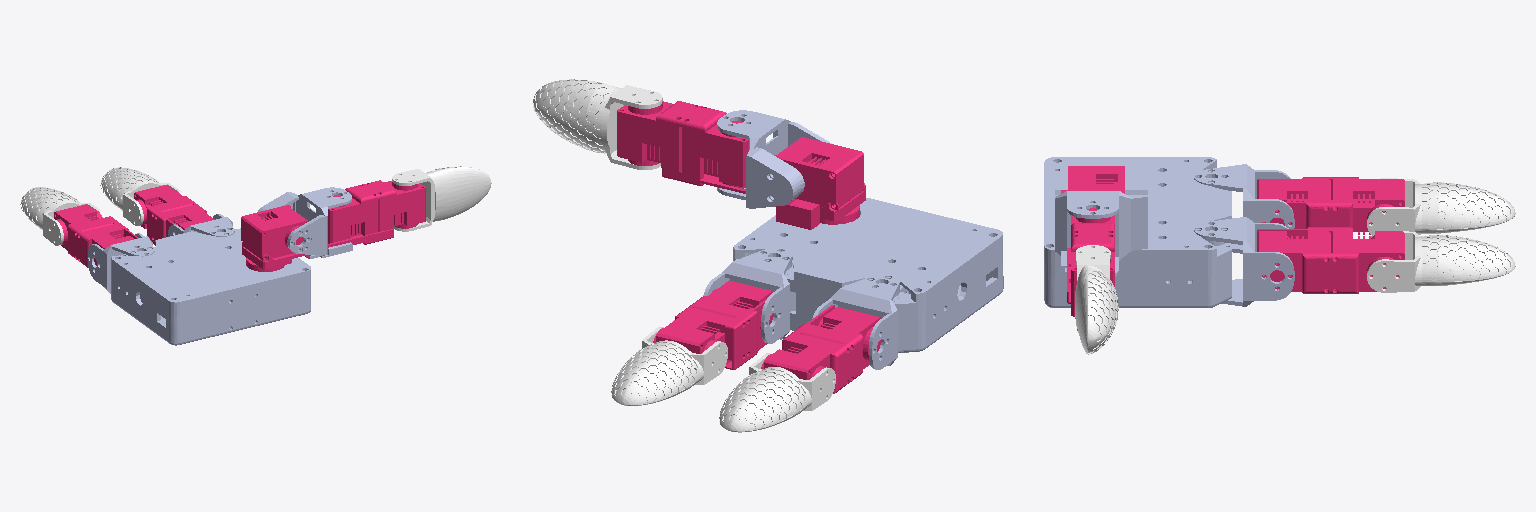
robot.urdf — GX10v2:
<?xml version="1.0" encoding="utf-8"?>
<!-- This URDF was automatically created by SolidWorks to URDF Exporter! Originally created by [author] ([email redacted]) 
     Commit Version: 1.6.0-4-g7f85cfe  Build Version: 1.6.7995.38578
     For more information, please see http://wiki.ros.org/sw_urdf_exporter -->
<robot
  name="GX10v2">
  <link
    name="base_link">
    <inertial>
      <origin
        xyz="0.0039750788871368 0.0455482018465749 -0.00143347464056486"
        rpy="0 0 0" />
      <mass
        value="0.135870626687155" />
      <inertia
        ixx="7.38321832755782E-05"
        ixy="1.98734656903139E-06"
        ixz="-1.07901519375653E-06"
        iyy="9.5174338728937E-05"
        iyz="5.86533936872062E-07"
        izz="0.000153413927705737" />
    </inertial>
    <visual>
      <origin
        xyz="0 0 0"
        rpy="0 0 0" />
      <geometry>
        <mesh
          filename="../meshes/base_link.STL" />
      </geometry>
      <material
        name="">
        <color
          rgba="0.792156862745098 0.819607843137255 0.933333333333333 1" />
      </material>
    </visual>
    <collision>
      <origin
        xyz="0 0 0"
        rpy="0 0 0" />
      <geometry>
        <mesh
          filename="../meshes/base_link.STL" />
      </geometry>
    </collision>
  </link>
  <link
    name="Link1">
    <inertial>
      <origin
        xyz="0.00662450278449252 0.000415490358648386 0.0157783938235043"
        rpy="0 0 0" />
      <mass
        value="0.0231992249064679" />
      <inertia
        ixx="1.85082212815086E-06"
        ixy="-1.619953963784E-08"
        ixz="-5.5476524200843E-08"
        iyy="2.7981516827345E-06"
        iyz="4.03956057213457E-08"
        izz="3.36690848839015E-06" />
    </inertial>
    <visual>
      <origin
        xyz="0 0 0"
        rpy="0 0 0" />
      <geometry>
        <mesh
          filename="../meshes/Link1.STL" />
      </geometry>
      <material
        name="">
        <color
          rgba="1 0.247058823529412 0.549019607843137 1" />
      </material>
    </visual>
    <collision>
      <origin
        xyz="0 0 0"
        rpy="0 0 0" />
      <geometry>
        <mesh
          filename="../meshes/Link1.STL" />
      </geometry>
    </collision>
  </link>
  <joint
    name="joint1"
    type="revolute">
    <origin
      xyz="0.0284999999999998 0.0222000000000001 0.0147407332682075"
      rpy="0 0 0" />
    <parent
      link="base_link" />
    <child
      link="Link1" />
    <axis
      xyz="0 0 1" />
    <limit
      lower="-1"
      upper="1"
      effort="5"
      velocity="3.2" />
  </joint>
  <link
    name="Link2">
    <inertial>
      <origin
        xyz="0.0158365792198411 -0.0019013282398371 0.00388962594259469"
        rpy="0 0 0" />
      <mass
        value="0.0089743671891579" />
      <inertia
        ixx="2.05026514383584E-06"
        ixy="-7.30771318271227E-09"
        ixz="3.87885988540636E-08"
        iyy="1.97681405964466E-06"
        iyz="-1.51198701255591E-08"
        izz="1.83638405764408E-06" />
    </inertial>
    <visual>
      <origin
        xyz="0 0 0"
        rpy="0 0 0" />
      <geometry>
        <mesh
          filename="../meshes/Link2.STL" />
      </geometry>
      <material
        name="">
        <color
          rgba="0.792156862745098 0.819607843137255 0.933333333333333 1" />
      </material>
    </visual>
    <collision>
      <origin
        xyz="0 0 0"
        rpy="0 0 0" />
      <geometry>
        <mesh
          filename="../meshes/Link2.STL" />
      </geometry>
    </collision>
  </link>
  <joint
    name="joint2"
    type="revolute">
    <origin
      xyz="0.0149999999999997 0 0.017"
      rpy="-1.5707963267949 0 0" />
    <parent
      link="Link1" />
    <child
      link="Link2" />
    <axis
      xyz="0 0 -1" />
    <limit
      lower="-1"
      upper="1"
      effort="5"
      velocity="3.2" />
  </joint>
  <link
    name="Link3">
    <inertial>
      <origin
        xyz="0.0242241323805044 -6.68785860891141E-05 0.000158980228424407"
        rpy="0 0 0" />
      <mass
        value="0.0348712226438575" />
      <inertia
        ixx="2.77575713754536E-06"
        ixy="-3.68455440422222E-08"
        ixz="8.93966337209342E-09"
        iyy="5.05984189740564E-06"
        iyz="2.87621041554904E-09"
        izz="4.48405282895554E-06" />
    </inertial>
    <visual>
      <origin
        xyz="0 0 0"
        rpy="0 0 0" />
      <geometry>
        <mesh
          filename="../meshes/Link3.STL" />
      </geometry>
      <material
        name="">
        <color
          rgba="1 0.247058823529412 0.549019607843137 1" />
      </material>
    </visual>
    <collision>
      <origin
        xyz="0 0 0"
        rpy="0 0 0" />
      <geometry>
        <mesh
          filename="../meshes/Link3.STL" />
      </geometry>
    </collision>
  </link>
  <joint
    name="joint3"
    type="revolute">
    <origin
      xyz="0.035624993619291 -0.00320000000000058 0.000118338320757781"
      rpy="1.5707963267949 0 0" />
    <parent
      link="Link2" />
    <child
      link="Link3" />
    <axis
      xyz="0 0 -1" />
    <limit
      lower="-1"
      upper="1"
      effort="5"
      velocity="3.2" />
  </joint>
  <link
    name="Link4">
    <inertial>
      <origin
        xyz="0.004078097747542 -6.65938619318074E-08 1.87350135405495E-16"
        rpy="0 0 0" />
      <mass
        value="0.00125017090070062" />
      <inertia
        ixx="2.40014433117899E-08"
        ixy="7.97359704647395E-13"
        ixz="-6.00739919866636E-23"
        iyy="4.714630827854E-08"
        iyz="-6.1456316106326E-23"
        izz="7.01339739927325E-08" />
    </inertial>
    <visual>
      <origin
        xyz="0 0 0"
        rpy="0 0 0" />
      <geometry>
        <mesh
          filename="../meshes/Link4.STL" />
      </geometry>
      <material
        name="">
        <color
          rgba="1 1 1 1" />
      </material>
    </visual>
    <collision>
      <origin
        xyz="0 0 0"
        rpy="0 0 0" />
      <geometry>
        <mesh
          filename="../meshes/Link4.STL" />
      </geometry>
    </collision>
  </link>
  <joint
    name="joint4"
    type="revolute">
    <origin
      xyz="0.0489999999999997 0 0"
      rpy="0 0 0" />
    <parent
      link="Link3" />
    <child
      link="Link4" />
    <axis
      xyz="0 0 1" />
    <limit
      lower="-1"
      upper="1"
      effort="5"
      velocity="3.2" />
  </joint>
  <link
    name="Link11">
    <inertial>
      <origin
        xyz="-9.21767670386542E-08 0.00306928186611687 -0.0285392731189463"
        rpy="0 0 0" />
      <mass
        value="0.016424831381844" />
      <inertia
        ixx="2.35088190988153E-06"
        ixy="-3.89199394672599E-11"
        ixz="1.56042920858166E-10"
        iyy="3.00563678043742E-06"
        iyz="3.51805491408575E-08"
        izz="1.31382809416214E-06" />
    </inertial>
    <visual>
      <origin
        xyz="0 0 0"
        rpy="0 0 0" />
      <geometry>
        <mesh
          filename="../meshes/Link11.STL" />
      </geometry>
      <material
        name="">
        <color
          rgba="1 1 1 1" />
      </material>
    </visual>
    <collision>
      <origin
        xyz="0 0 0"
        rpy="0 0 0" />
      <geometry>
        <mesh
          filename="../meshes/Link11.STL" />
      </geometry>
    </collision>
  </link>
  <joint
    name="joint11"
    type="fixed">
    <origin
      xyz="0.0599999999999635 -0.00241845943756577 0"
      rpy="0 1.5707963267949 0" />
    <parent
      link="Link4" />
    <child
      link="Link11" />
    <axis
      xyz="0 0 0" />
  </joint>
  <link
    name="Link5">
    <inertial>
      <origin
        xyz="0.0162461853224018 -0.000101448360790395 -7.27134416914077E-09"
        rpy="0 0 0" />
      <mass
        value="0.00521913649462284" />
      <inertia
        ixx="1.31586574929348E-06"
        ixy="-6.56410334836589E-10"
        ixz="4.40572207984356E-14"
        iyy="1.11288416894054E-06"
        iyz="3.84997945224234E-15"
        izz="1.03904978629202E-06" />
    </inertial>
    <visual>
      <origin
        xyz="0 0 0"
        rpy="0 0 0" />
      <geometry>
        <mesh
          filename="../meshes/Link5.STL" />
      </geometry>
      <material
        name="">
        <color
          rgba="0.792156862745098 0.819607843137255 0.933333333333333 1" />
      </material>
    </visual>
    <collision>
      <origin
        xyz="0 0 0"
        rpy="0 0 0" />
      <geometry>
        <mesh
          filename="../meshes/Link5.STL" />
      </geometry>
    </collision>
  </link>
  <joint
    name="joint5"
    type="revolute">
    <origin
      xyz="0.0285 0.0765 0.000240733268207483"
      rpy="0 0 1.5707963267949" />
    <parent
      link="base_link" />
    <child
      link="Link5" />
    <axis
      xyz="0 0 -1" />
    <limit
      lower="-1"
      upper="1"
      effort="5"
      velocity="3.2" />
  </joint>
  <link
    name="Link6">
    <inertial>
      <origin
        xyz="0.0242546190515201 5.79783357082444E-05 -0.000169989840908991"
        rpy="0 0 0" />
      <mass
        value="0.0348416546367208" />
      <inertia
        ixx="2.77311011323647E-06"
        ixy="2.85716173954036E-08"
        ixz="-7.61150000860686E-09"
        iyy="5.03224286649115E-06"
        iyz="2.45601070890306E-09"
        izz="4.45404051204696E-06" />
    </inertial>
    <visual>
      <origin
        xyz="0 0 0"
        rpy="0 0 0" />
      <geometry>
        <mesh
          filename="../meshes/Link6.STL" />
      </geometry>
      <material
        name="">
        <color
          rgba="1 0.247058823529412 0.549019607843137 1" />
      </material>
    </visual>
    <collision>
      <origin
        xyz="0 0 0"
        rpy="0 0 0" />
      <geometry>
        <mesh
          filename="../meshes/Link6.STL" />
      </geometry>
    </collision>
  </link>
  <joint
    name="joint6"
    type="revolute">
    <origin
      xyz="0.0300000000000001 0 0"
      rpy="-1.5707963267949 0 0" />
    <parent
      link="Link5" />
    <child
      link="Link6" />
    <axis
      xyz="0 0 1" />
    <limit
      lower="-1"
      upper="1"
      effort="5"
      velocity="3.2" />
  </joint>
  <link
    name="Link7">
    <inertial>
      <origin
        xyz="0.00407809774758212 6.65938560129309E-08 -2.77555756156289E-17"
        rpy="0 0 0" />
      <mass
        value="0.00125017090070063" />
      <inertia
        ixx="2.40014433117899E-08"
        ixy="-7.9735970425401E-13"
        ixz="6.20366426602066E-23"
        iyy="4.71463082785402E-08"
        iyz="7.72359779290719E-23"
        izz="7.01339739927327E-08" />
    </inertial>
    <visual>
      <origin
        xyz="0 0 0"
        rpy="0 0 0" />
      <geometry>
        <mesh
          filename="../meshes/Link7.STL" />
      </geometry>
      <material
        name="">
        <color
          rgba="1 1 1 1" />
      </material>
    </visual>
    <collision>
      <origin
        xyz="0 0 0"
        rpy="0 0 0" />
      <geometry>
        <mesh
          filename="../meshes/Link7.STL" />
      </geometry>
    </collision>
  </link>
  <joint
    name="joint7"
    type="revolute">
    <origin
      xyz="0.0489999999999997 0 0"
      rpy="0 0 0" />
    <parent
      link="Link6" />
    <child
      link="Link7" />
    <axis
      xyz="0 0 -1" />
    <limit
      lower="-1"
      upper="1"
      effort="5"
      velocity="3.2" />
  </joint>
  <link
    name="Link12">
    <inertial>
      <origin
        xyz="8.74489540433898E-08 -0.00306937366056561 -0.0285392684845549"
        rpy="0 0 0" />
      <mass
        value="0.0164248382176841" />
      <inertia
        ixx="2.35088219752713E-06"
        ixy="-3.86015817979145E-11"
        ixz="-1.52855440725576E-10"
        iyy="3.00563985314037E-06"
        iyz="-3.5179315937629E-08"
        izz="1.31382979719753E-06" />
    </inertial>
    <visual>
      <origin
        xyz="0 0 0"
        rpy="0 0 0" />
      <geometry>
        <mesh
          filename="../meshes/Link12.STL" />
      </geometry>
      <material
        name="">
        <color
          rgba="1 1 1 1" />
      </material>
    </visual>
    <collision>
      <origin
        xyz="0 0 0"
        rpy="0 0 0" />
      <geometry>
        <mesh
          filename="../meshes/Link12.STL" />
      </geometry>
    </collision>
  </link>
  <joint
    name="joint12"
    type="fixed">
    <origin
      xyz="0.0600000000000002 0.00241854395832904 0"
      rpy="0 1.5707963267949 0" />
    <parent
      link="Link7" />
    <child
      link="Link12" />
    <axis
      xyz="0 0 0" />
  </joint>
  <link
    name="Link8">
    <inertial>
      <origin
        xyz="0.0162461853224018 0.000101448360790395 7.27134405811847E-09"
        rpy="0 0 0" />
      <mass
        value="0.00521913649462284" />
      <inertia
        ixx="1.31586574929348E-06"
        ixy="6.56410334836076E-10"
        ixz="-4.40572211870227E-14"
        iyy="1.11288416894054E-06"
        iyz="3.84997935711065E-15"
        izz="1.03904978629202E-06" />
    </inertial>
    <visual>
      <origin
        xyz="0 0 0"
        rpy="0 0 0" />
      <geometry>
        <mesh
          filename="../meshes/Link8.STL" />
      </geometry>
      <material
        name="">
        <color
          rgba="0.792156862745098 0.819607843137255 0.933333333333333 1" />
      </material>
    </visual>
    <collision>
      <origin
        xyz="0 0 0"
        rpy="0 0 0" />
      <geometry>
        <mesh
          filename="../meshes/Link8.STL" />
      </geometry>
    </collision>
  </link>
  <joint
    name="joint8"
    type="revolute">
    <origin
      xyz="-0.0285 0.0764999999999998 0.000240733268207556"
      rpy="0 0 1.5707963267949" />
    <parent
      link="base_link" />
    <child
      link="Link8" />
    <axis
      xyz="0 0 -1" />
    <limit
      lower="-1"
      upper="1"
      effort="5"
      velocity="3.2" />
  </joint>
  <link
    name="Link9">
    <inertial>
      <origin
        xyz="0.0242554858036839 -5.66067877701077E-05 -0.000193268577039479"
        rpy="0 0 0" />
      <mass
        value="0.0347918481270268" />
      <inertia
        ixx="2.76945374955726E-06"
        ixy="-2.84709486167063E-08"
        ixz="-7.13077682242384E-09"
        iyy="5.02759618349888E-06"
        iyz="-2.4487628101761E-09"
        izz="4.44603959218758E-06" />
    </inertial>
    <visual>
      <origin
        xyz="0 0 0"
        rpy="0 0 0" />
      <geometry>
        <mesh
          filename="../meshes/Link9.STL" />
      </geometry>
      <material
        name="">
        <color
          rgba="1 0.247058823529412 0.549019607843137 1" />
      </material>
    </visual>
    <collision>
      <origin
        xyz="0 0 0"
        rpy="0 0 0" />
      <geometry>
        <mesh
          filename="../meshes/Link9.STL" />
      </geometry>
    </collision>
  </link>
  <joint
    name="joint9"
    type="revolute">
    <origin
      xyz="0.0300000000000002 0 0"
      rpy="1.5707963267949 0 0" />
    <parent
      link="Link8" />
    <child
      link="Link9" />
    <axis
      xyz="0 0 1" />
    <limit
      lower="-1"
      upper="1"
      effort="5"
      velocity="3.2" />
  </joint>
  <link
    name="Link10">
    <inertial>
      <origin
        xyz="0.00407809774758197 -6.65938561339278E-08 -2.94902990916057E-16"
        rpy="0 0 0" />
      <mass
        value="0.00125017090070062" />
      <inertia
        ixx="2.40014433117898E-08"
        ixy="7.97359703786918E-13"
        ixz="6.31268442681354E-23"
        iyy="4.714630827854E-08"
        iyz="2.27925271319829E-24"
        izz="7.01339739927324E-08" />
    </inertial>
    <visual>
      <origin
        xyz="0 0 0"
        rpy="0 0 0" />
      <geometry>
        <mesh
          filename="../meshes/Link10.STL" />
      </geometry>
      <material
        name="">
        <color
          rgba="1 1 1 1" />
      </material>
    </visual>
    <collision>
      <origin
        xyz="0 0 0"
        rpy="0 0 0" />
      <geometry>
        <mesh
          filename="../meshes/Link10.STL" />
      </geometry>
    </collision>
  </link>
  <joint
    name="joint10"
    type="revolute">
    <origin
      xyz="0.0489999999999996 0 0"
      rpy="0 0 0" />
    <parent
      link="Link9" />
    <child
      link="Link10" />
    <axis
      xyz="0 0 -1" />
    <limit
      lower="-1"
      upper="1"
      effort="5"
      velocity="3.2" />
  </joint>
  <link
    name="Link13">
    <inertial>
      <origin
        xyz="9.98642309991971E-08 -0.00306937171373231 -0.028539272628434"
        rpy="0 0 0" />
      <mass
        value="0.0164248317291125" />
      <inertia
        ixx="2.35088169170666E-06"
        ixy="-3.87616311464334E-11"
        ixz="-1.54840043564783E-10"
        iyy="3.0056377398131E-06"
        iyz="-3.51792709490384E-08"
        izz="1.31382861241584E-06" />
    </inertial>
    <visual>
      <origin
        xyz="0 0 0"
        rpy="0 0 0" />
      <geometry>
        <mesh
          filename="../meshes/Link13.STL" />
      </geometry>
      <material
        name="">
        <color
          rgba="1 1 1 1" />
      </material>
    </visual>
    <collision>
      <origin
        xyz="0 0 0"
        rpy="0 0 0" />
      <geometry>
        <mesh
          filename="../meshes/Link13.STL" />
      </geometry>
    </collision>
  </link>
  <joint
    name="joint13"
    type="fixed">
    <origin
      xyz="0.06 -0.0024185 0"
      rpy="0 -1.5708 3.141593" />
    <parent
      link="Link10" />
    <child
      link="Link13" />
    <axis
      xyz="0 0 0" />
  </joint>
</robot>

--- What the picture shows (computed from the rendered views, not written in the file) ---
The picture shows the robot from 3 angles, left to right: view 1: azimuth 30°, elevation 25°; view 2: azimuth 150°, elevation 25°; view 3: azimuth 270°, elevation 25°; orthographic projection.
Robot: GX10v2 — 14 links, 13 joints (10 revolute, 3 fixed); root link base_link; default pose: all joints at 0.
Links seen in each view (by area): view 1: base_link, Link3, Link1, Link2, Link11, Link9, Link6, Link8, Link12, Link13, Link5, Link4 (+2 smaller); view 2: base_link, Link3, Link1, Link6, Link9, Link2, Link11, Link13, Link12, Link5, Link8, Link4 (+2 smaller); view 3: base_link, Link6, Link9, Link2, Link5, Link12, Link13, Link11, Link8, Link3, Link7, Link1 (+2 smaller).
Boxes of the visible links, x1,y1,x2,y2 form: base_link: (111,228,310,345); Link3: (328,180,425,247); Link1: (241,205,310,271); Link2: (258,187,352,258); Link11: (421,166,491,224); Link9: (54,204,137,267); Link6: (134,185,214,245); Link8: (88,233,154,293); Link12: (100,167,167,210); Link13: (20,187,85,229); Link5: (168,214,234,236); Link4: (392,169,430,231); base_link: (733,198,1003,352); Link3: (617,101,748,193); Link1: (774,137,865,229); Link6: (653,280,772,369); Link9: (761,305,881,393); Link2: (717,110,831,208); Link11: (532,79,623,159); Link13: (719,367,811,432); Link12: (611,340,703,405); Link5: (703,248,791,343); Link8: (812,275,899,369); Link4: (610,85,662,169); base_link: (1044,157,1231,307); Link6: (1257,227,1404,293); Link9: (1257,177,1404,234); Link2: (1055,190,1147,276); Link5: (1194,217,1294,306); Link12: (1415,232,1515,290); Link13: (1415,180,1515,234); Link11: (1075,265,1118,354); Link8: (1194,164,1294,253); Link3: (1067,208,1114,316); Link7: (1367,231,1414,292); Link1: (1061,166,1124,193).
Size in the robot's own frame: 0.2386 by 0.2155 by 0.0697 metres.
Meshes: 14 distinct files referenced, 14 mesh visuals loaded (14 binary STL).